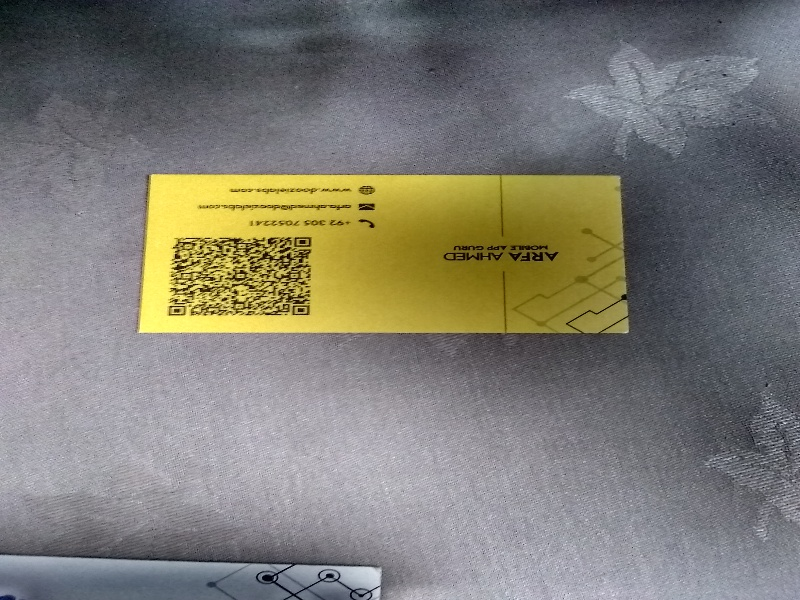front: (140, 172, 633, 337)
